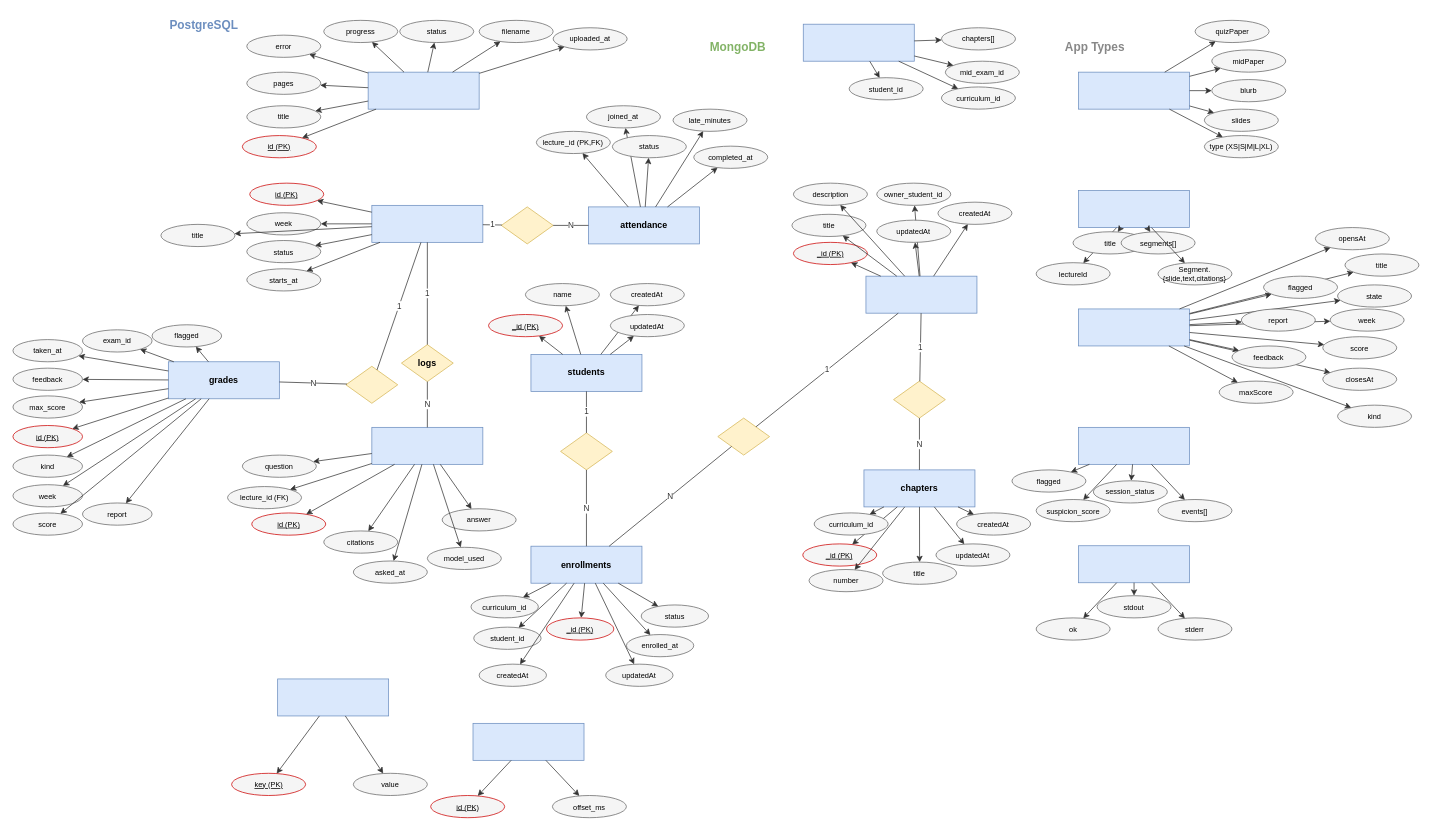
Image size: 1432x830. Some labels were removed from this diagram. The centre of each missing label's shape, as x and y in pixels:
"belongs_to" belongs at pixel 371 384.
"books" belongs at pixel 423 90.
"clock_state" belongs at pixel 528 741.
"contains" belongs at pixel 919 399.
"CourseSize" belongs at pixel 1134 90.
"curricula" belongs at pixel 921 294.
"enrolls" belongs at pixel 586 451.
"ExamStatus" belongs at pixel 1134 327.
"has" belongs at pixel 743 436.
"lectures" belongs at pixel 427 223.
"ProctoringReport" belongs at pixel 1134 445.
"PythonResult" belongs at pixel 1134 564.
"qa_log" belongs at pixel 427 445.
"records" belongs at pixel 527 225.
"Script/Segment" belongs at pixel 1134 209.
"settings" belongs at pixel 333 697.
"univai_link" belongs at pixel 858 42.
